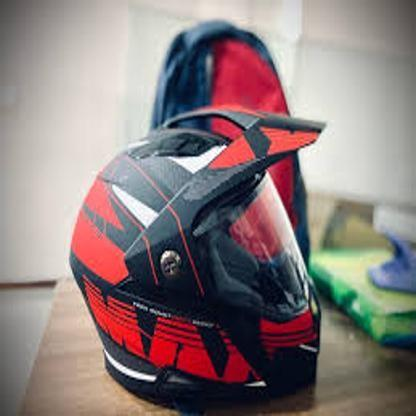not trash: (65, 107, 332, 406)
